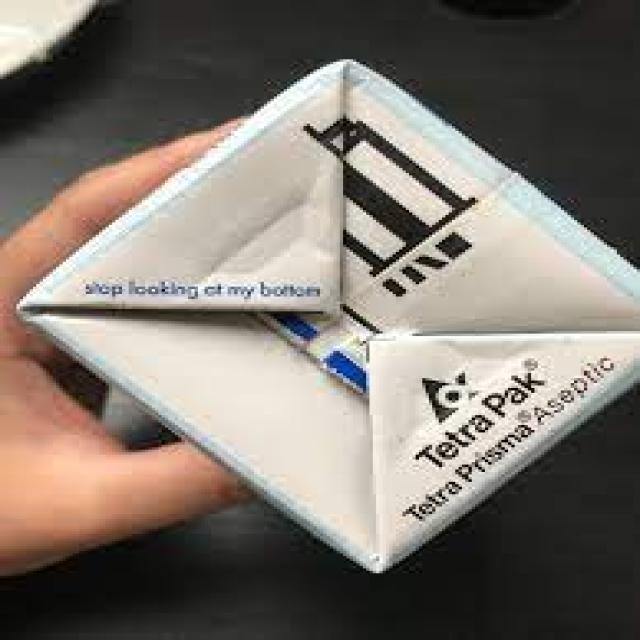cardboard: (48, 62, 640, 568)
